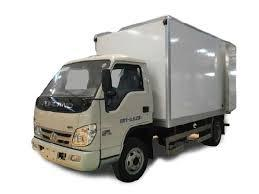truck: (30, 45, 167, 184)
